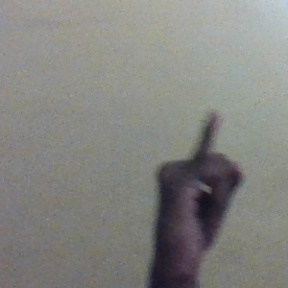I: (149, 108, 243, 275)
